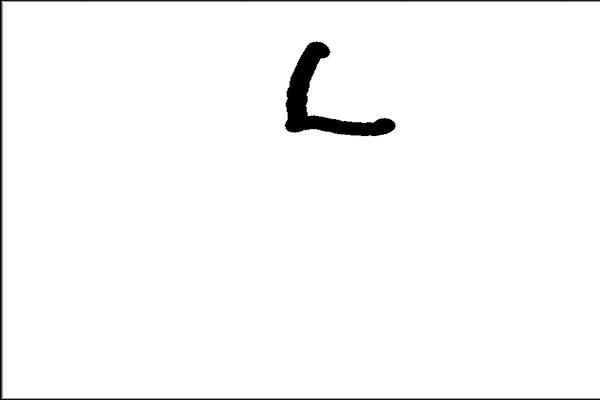L: (274, 35, 399, 142)
